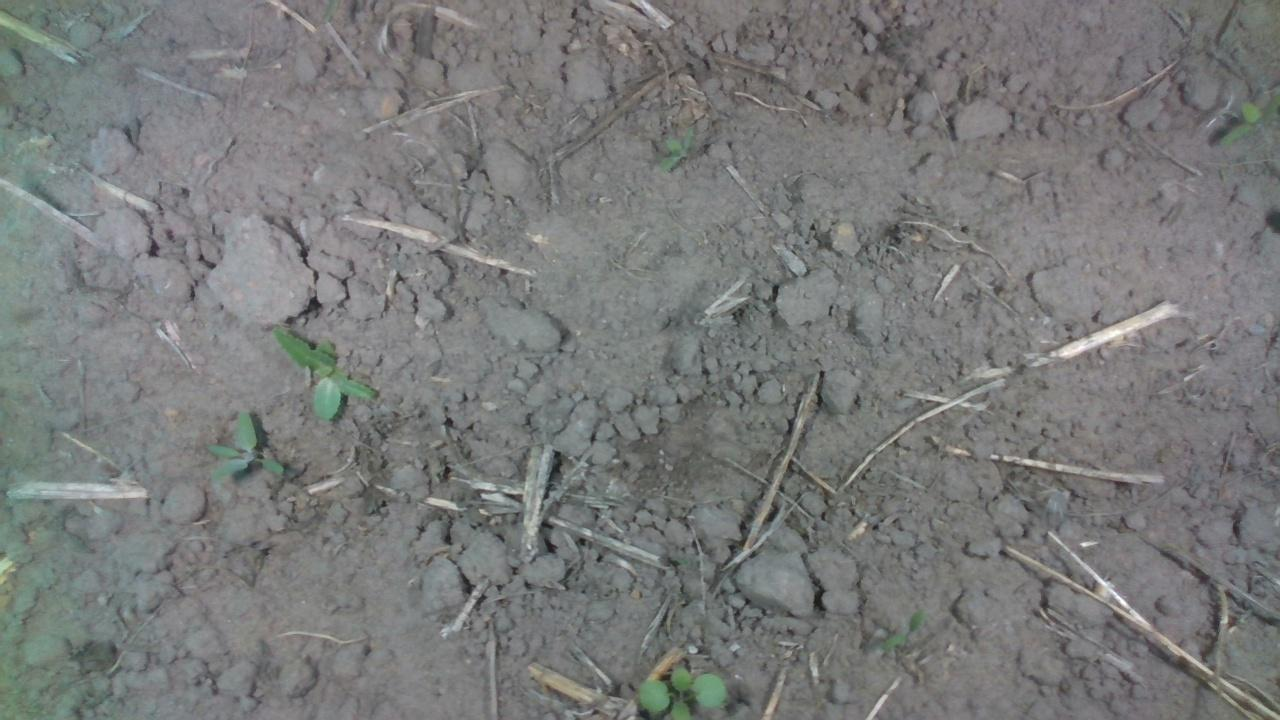weed: (270, 325, 378, 419), (203, 407, 285, 484), (878, 604, 924, 650), (656, 126, 694, 173)
